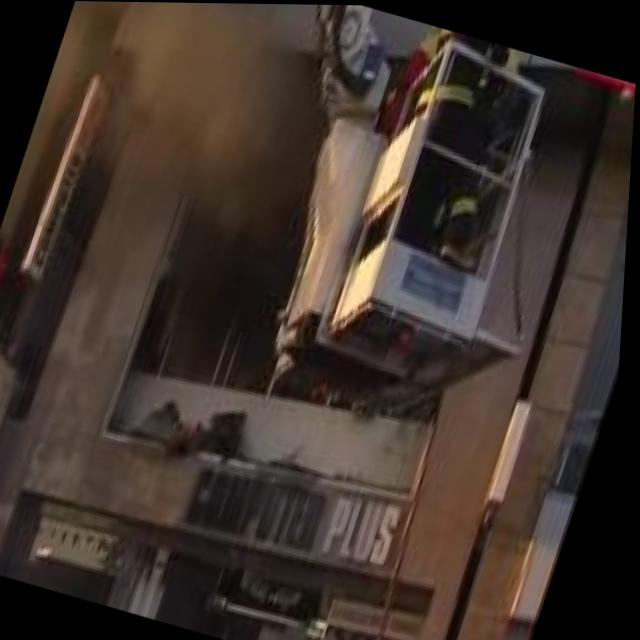fire: (0, 173, 178, 463)
